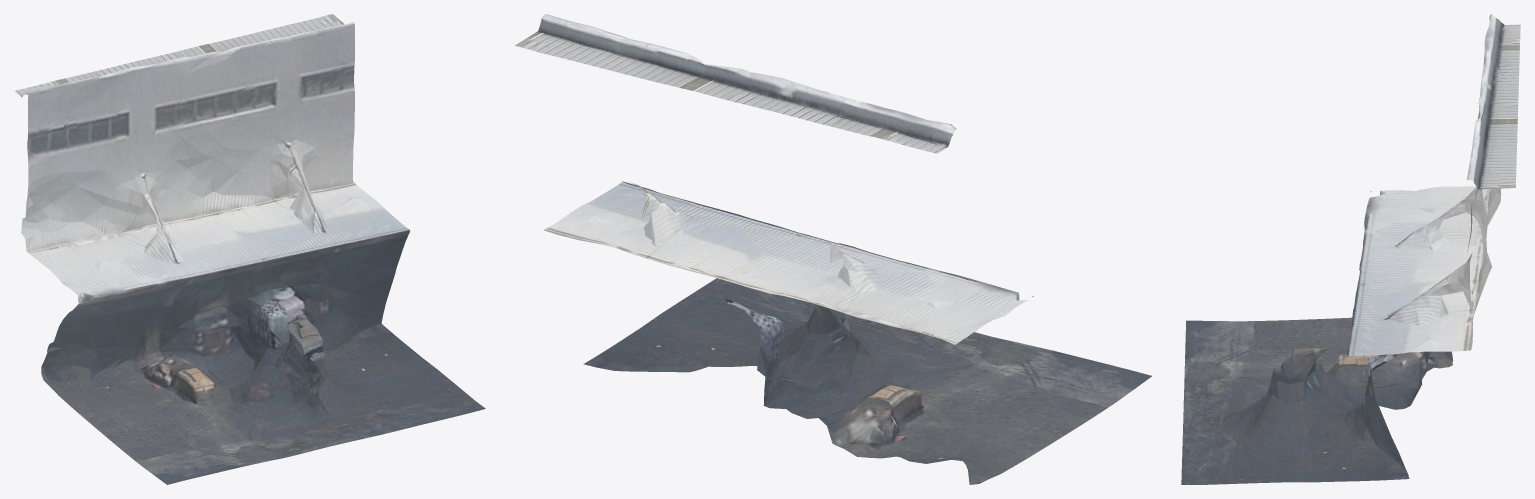
Rendered from Tile_+007_+013_L21_0uuuu01.glb.
The picture shows the model from 3 angles, left to right: view 1: azimuth 30°, elevation 25°; view 2: azimuth 150°, elevation 25°; view 3: azimuth 270°, elevation 25°; orthographic projection. The views are drawn at different scales.
Visible parts, largest first — view 1: rtc; view 2: rtc; view 3: rtc.
Part boxes in pixels (bbox=[...]): rtc: bbox=[14, 14, 485, 484]; rtc: bbox=[515, 14, 1151, 484]; rtc: bbox=[1181, 14, 1520, 484].
Size of the model in its own units: 20.34 by 17.68 by 17.49.
1 material, 1 textured.
